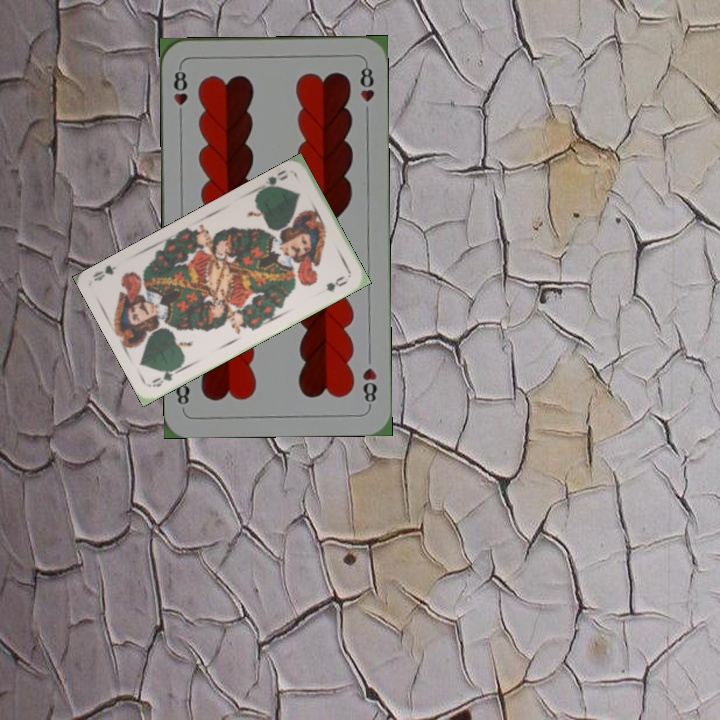GO: (148, 360, 186, 390), (257, 165, 291, 193)
H8: (170, 63, 190, 122), (358, 363, 379, 409)
